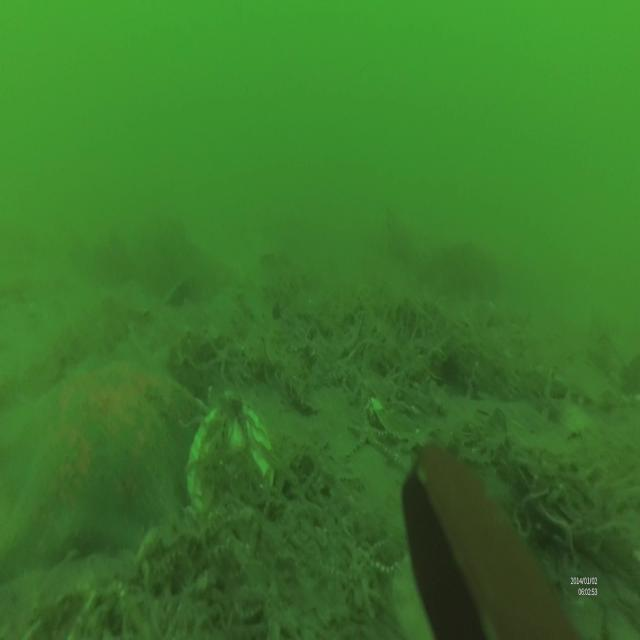scallop: (188, 392, 275, 512)
starfish: (0, 326, 211, 576), (347, 412, 406, 476), (204, 329, 237, 377)
